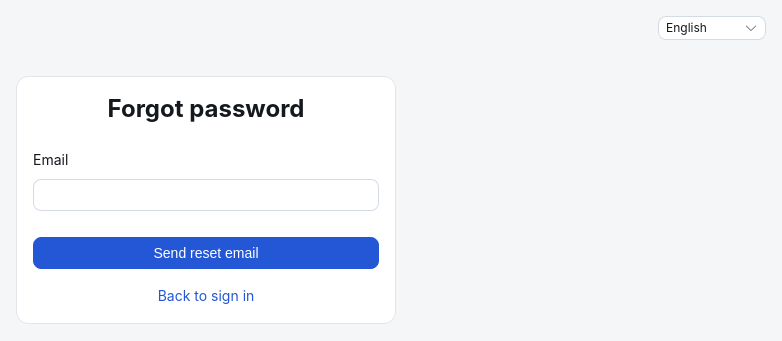
Test: forgot password › uses the same notice for registered@example.test
Type "registered@example.test" into the field labelled "Email" at {"x": 206, "y": 195}, box top-left (44, 180), bottom-right (368, 210)
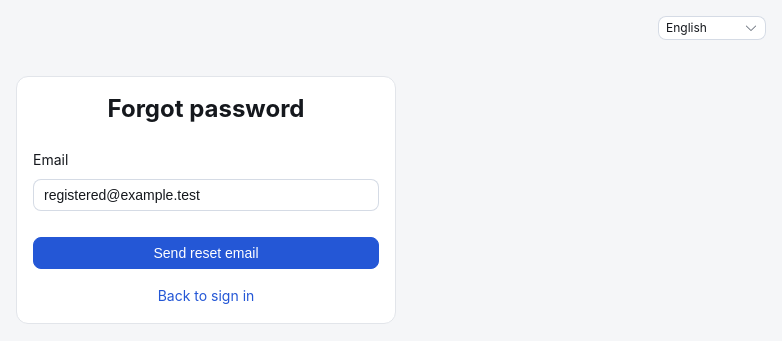
Submit the form, box top-left (33, 149), bottom-right (379, 269)
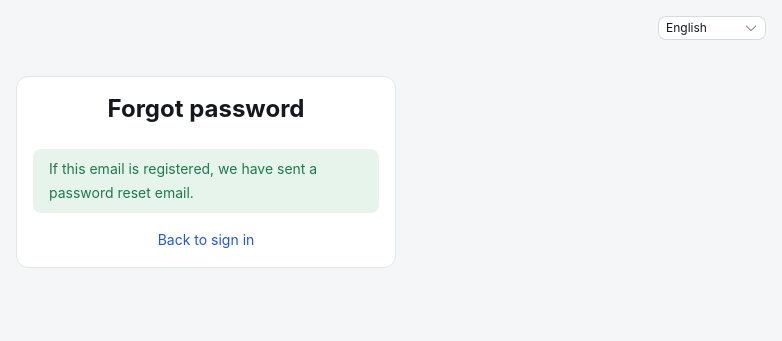
Result: the text "If this email is registered, we have sent a password reset email." is shown at top-left (49, 157), bottom-right (363, 205)
